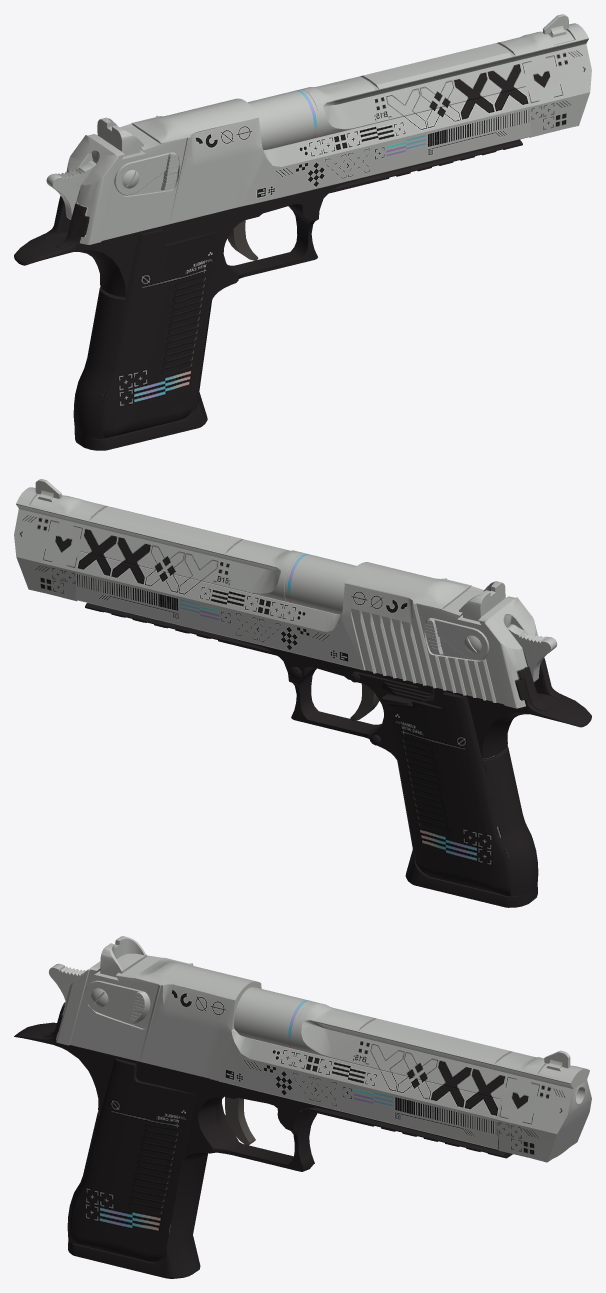
The model's file is w_pistol50_printstream.glb.
The picture shows the model from 3 angles, top to bottom: view 1: azimuth 30°, elevation 25°; view 2: azimuth 150°, elevation 25°; view 3: azimuth 330°, elevation 25°; orthographic projection.
Visible parts, largest first — view 1: Gun_Root; view 2: Gun_Root; view 3: Gun_Root.
Boxes of the visible parts, x1,y1,x2,y2 form: Gun_Root: [14, 14, 591, 450]; Gun_Root: [14, 479, 591, 907]; Gun_Root: [14, 936, 591, 1278].
Size of the model in its own units: 0.2842 by 0.1495 by 0.033.
Materials: 1 (1 with a texture image).
